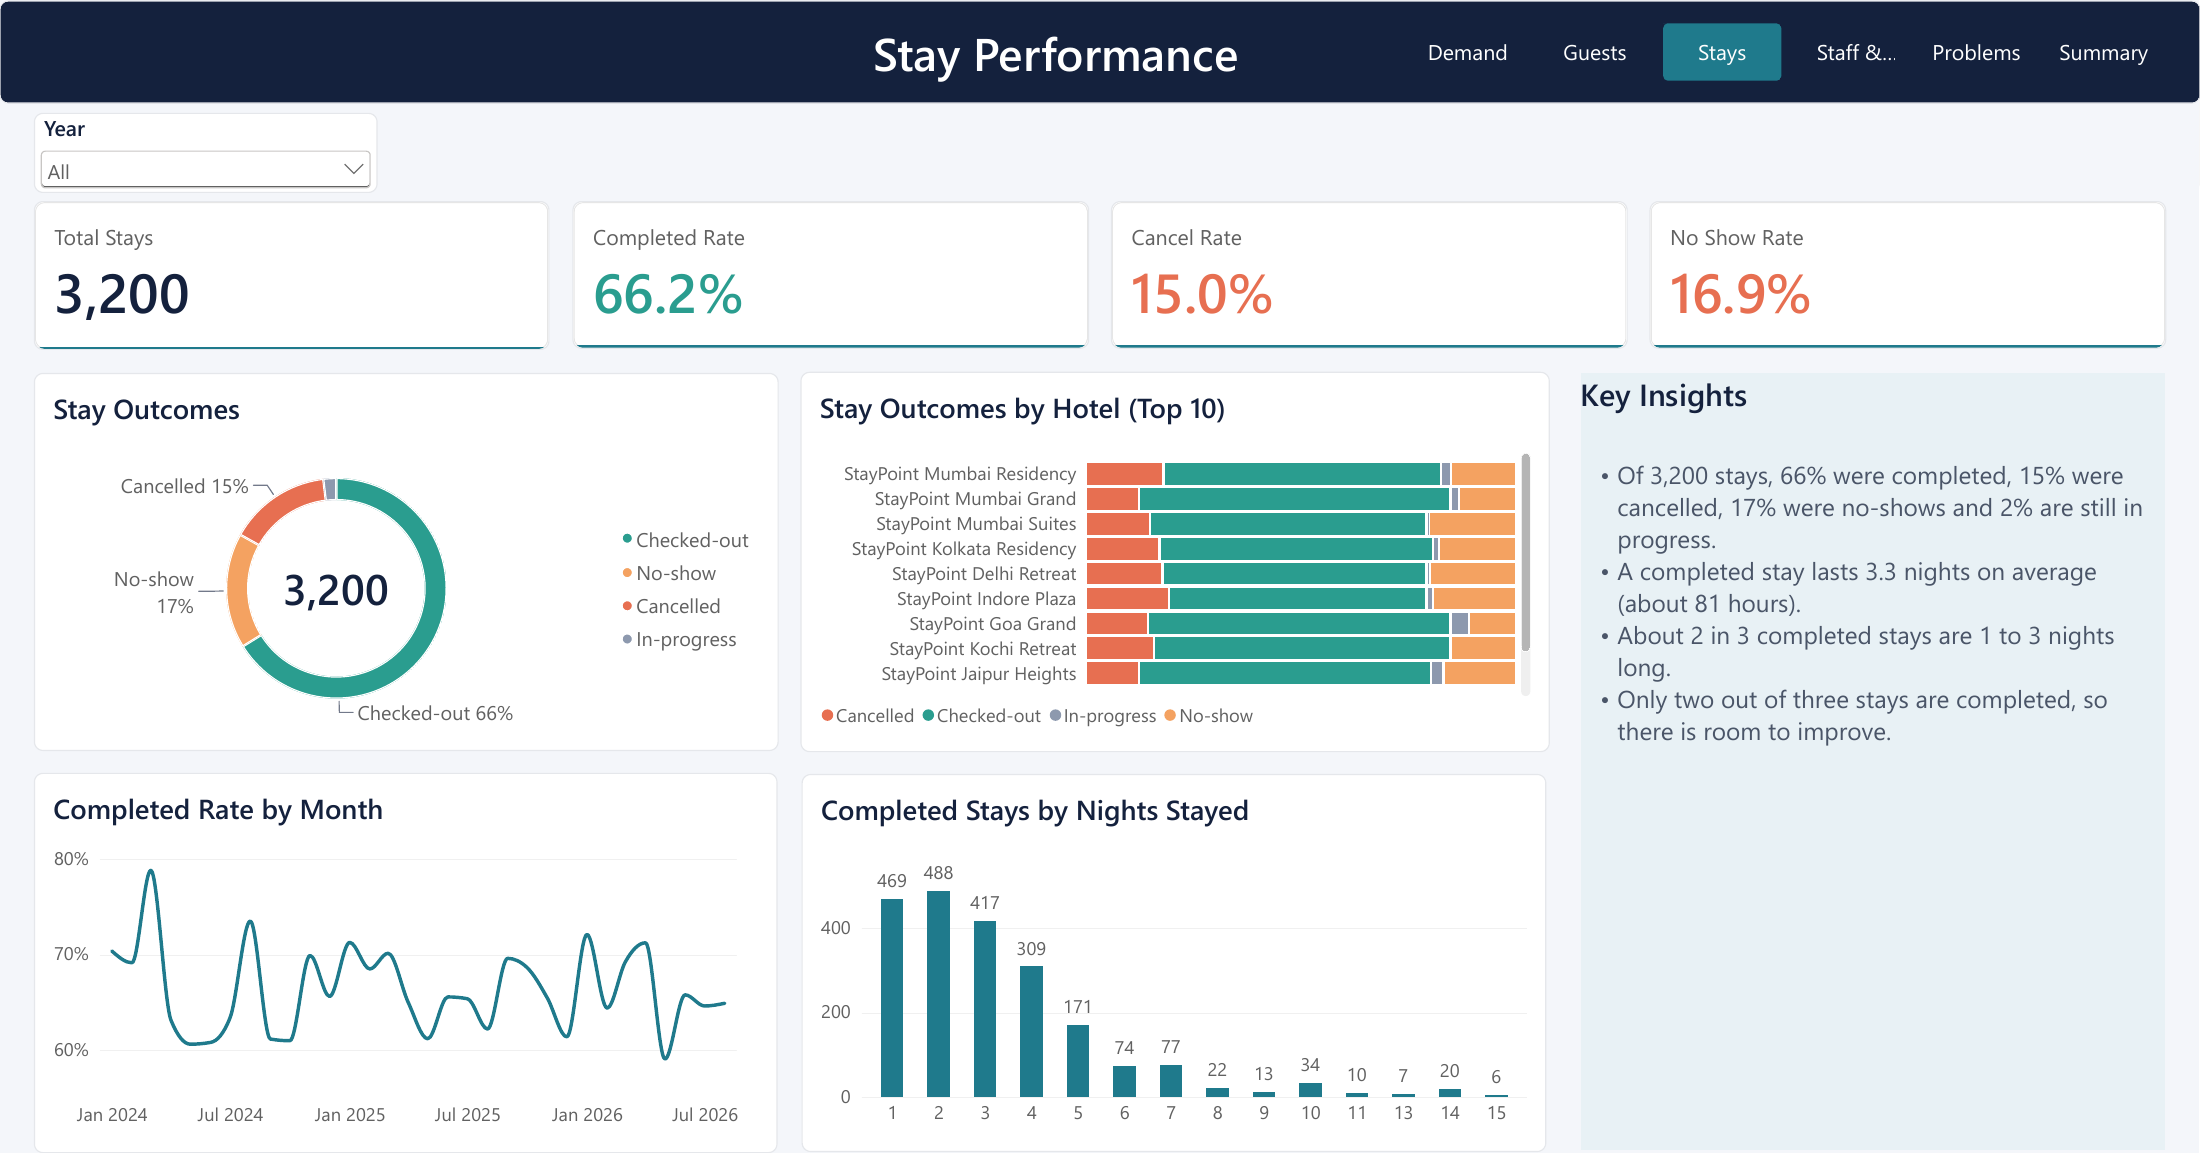

The dashboard page shown, as its layout file describes it:
{"tool":"powerbi","page":{"name":"Stays","canvas":[1920,1080],"ordinal":2},"visuals":[{"type":"shape","box":[0,0,1920.7,90],"z":0},{"type":"textbox","title":"Stay Performance","box":[31,19.1,1782.3,52.5],"z":1000},{"type":"pageNavigator","box":[1230,20,660,50],"z":2000},{"type":"cardVisual","fields":{"Data":["_Measures.Total Stays"]},"box":[30,175,450,130],"z":3000},{"type":"cardVisual","fields":{"Data":["_Measures.Completed Rate"]},"box":[500,175,450.9,128.8],"z":4000},{"type":"cardVisual","fields":{"Data":["_Measures.Cancel Rate"]},"box":[970,175,450.9,128.8],"z":5000},{"type":"cardVisual","fields":{"Data":["_Measures.No Show Rate"]},"box":[1440,175,450.9,128.8],"z":6000},{"type":"donutChart","title":"Stay Outcomes","fields":{"Category":["stays.status"],"Y":["_Measures.Total Stays"]},"box":[30,325,650,330],"z":7000},{"type":"hundredPercentStackedBarChart","title":"Stay Outcomes by Hotel (Top 10)","fields":{"Category":["hotels.hotel_name"],"Series":["stays.status"],"Y":["_Measures.Total Stays"]},"box":[699.1,324.5,653.7,331.6],"z":8000},{"type":"lineChart","title":"Completed Rate by Month","fields":{"Category":["date_table.Month Start"],"Y":["_Measures.Completed Rate"]},"box":[29.9,673.8,648.9,331.9],"z":9000},{"type":"clusteredColumnChart","title":"Completed Stays by Nights Stayed","fields":{"Category":["stays.nights_stayed"],"Y":["_Measures.Completed Stays"]},"box":[700,675,650,330],"z":10000},{"type":"slicer","fields":{"Values":["date_table.Year"]},"box":[30,98,300,70],"z":11000},{"type":"textbox","title":"Key Insights","box":[1380,325,510,678],"z":12000}]}

Visuals, with their boxes on the page's 1920x1080 design canvas (x1, y1, x2, y2). These are canvas units, not pixel positions in the 2200x1153 screenshot, which may show the page scaled, cropped or inside an application window:
shape: (0,0,1921,90)
"Stay Performance" textbox: (31,19,1813,72)
pageNavigator: (1230,20,1890,70)
cardVisual - _Measures.Total Stays: (30,175,480,305)
cardVisual - _Measures.Completed Rate: (500,175,951,304)
cardVisual - _Measures.Cancel Rate: (970,175,1421,304)
cardVisual - _Measures.No Show Rate: (1440,175,1891,304)
"Stay Outcomes" donutChart: (30,325,680,655)
"Stay Outcomes by Hotel (Top 10)" hundredPercentStackedBarChart: (699,324,1353,656)
"Completed Rate by Month" lineChart: (30,674,679,1006)
"Completed Stays by Nights Stayed" clusteredColumnChart: (700,675,1350,1005)
slicer - date_table.Year: (30,98,330,168)
"Key Insights" textbox: (1380,325,1890,1003)
